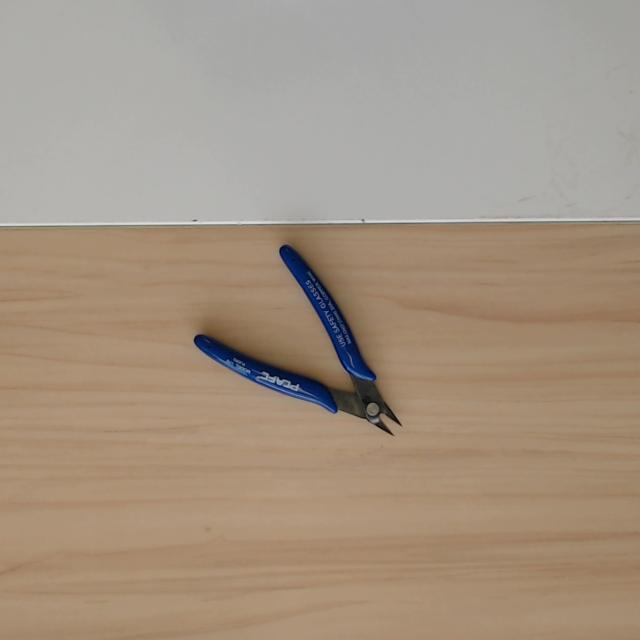Tang-Potong-Biru: (191, 237, 444, 482)
